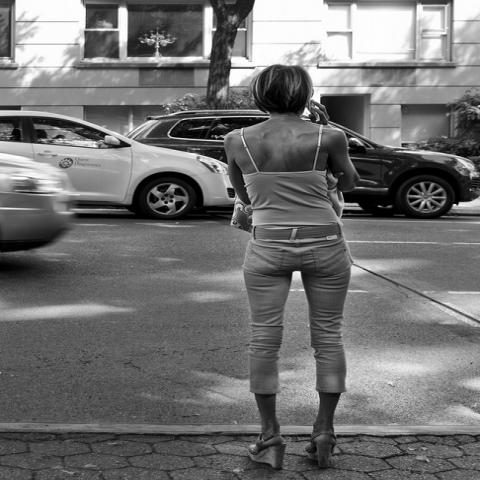car: (131, 107, 478, 224), (0, 111, 241, 218), (1, 156, 71, 250)
